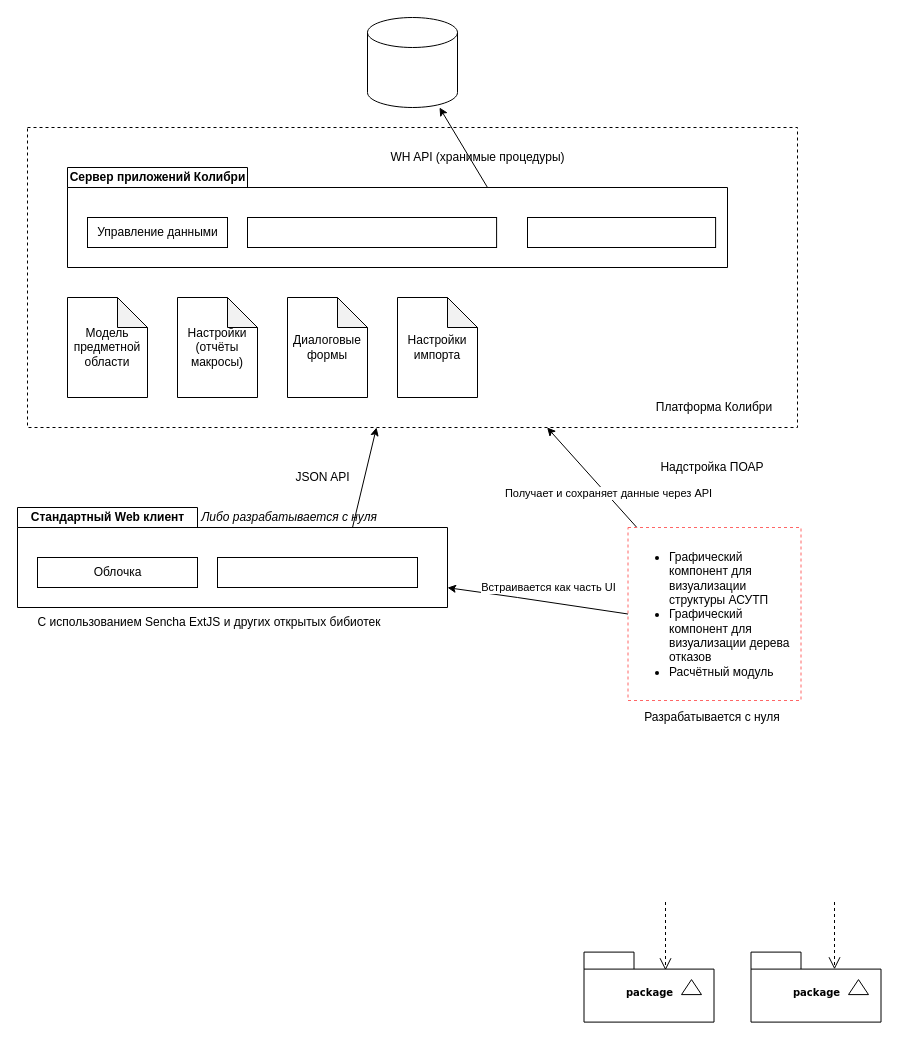
The diagram is 899 pixels wide and 1040 high, and some of its shapes have lost their labels. The shapes that lost their labels are listed below. From the top down, each one's centre as x and y in pixels, then its label:
At point 412,62: "PostgreSQL WH".
At point 371,232: "Безопасность (ролевая модель)".
At point 621,232: "Отчётная система".
At point 317,572: "Отображение диалоговых форм".
